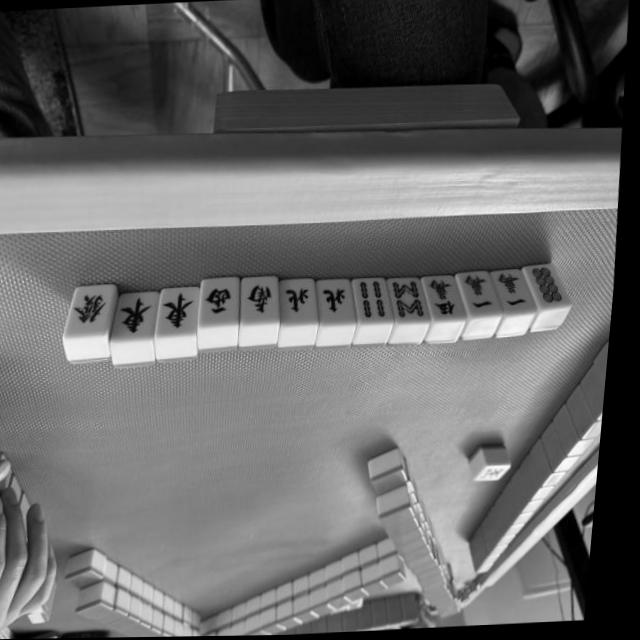hdg: (75, 286, 114, 331)
hwe: (158, 287, 204, 337), (122, 293, 160, 339)
hwn: (325, 281, 355, 320), (288, 282, 319, 319)
hws: (248, 278, 285, 320)
hww: (204, 277, 247, 325)
sb4: (359, 277, 395, 323)
sb8: (393, 278, 430, 319)
sc1: (464, 272, 502, 314), (499, 272, 534, 310)
sc5: (428, 275, 464, 319)
sd8: (532, 263, 572, 308)
